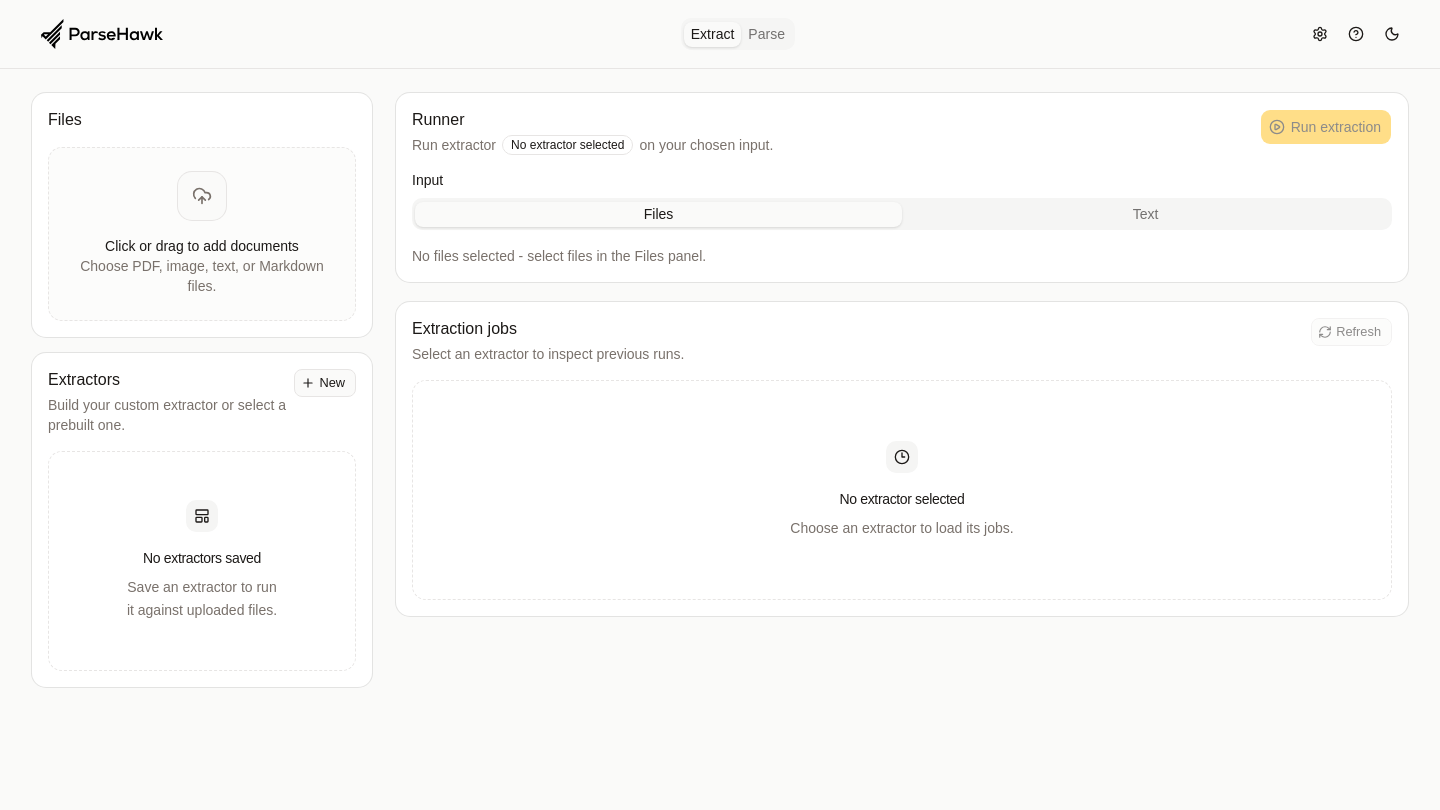
Test: App run workflow › starts fresh extractor drafts empty when no extractors are saved
Check: the text "No extractors saved" is shown, box [143,548,261,568]
Step 1. Click the button "New" → (325, 383), box [294,369,356,397]
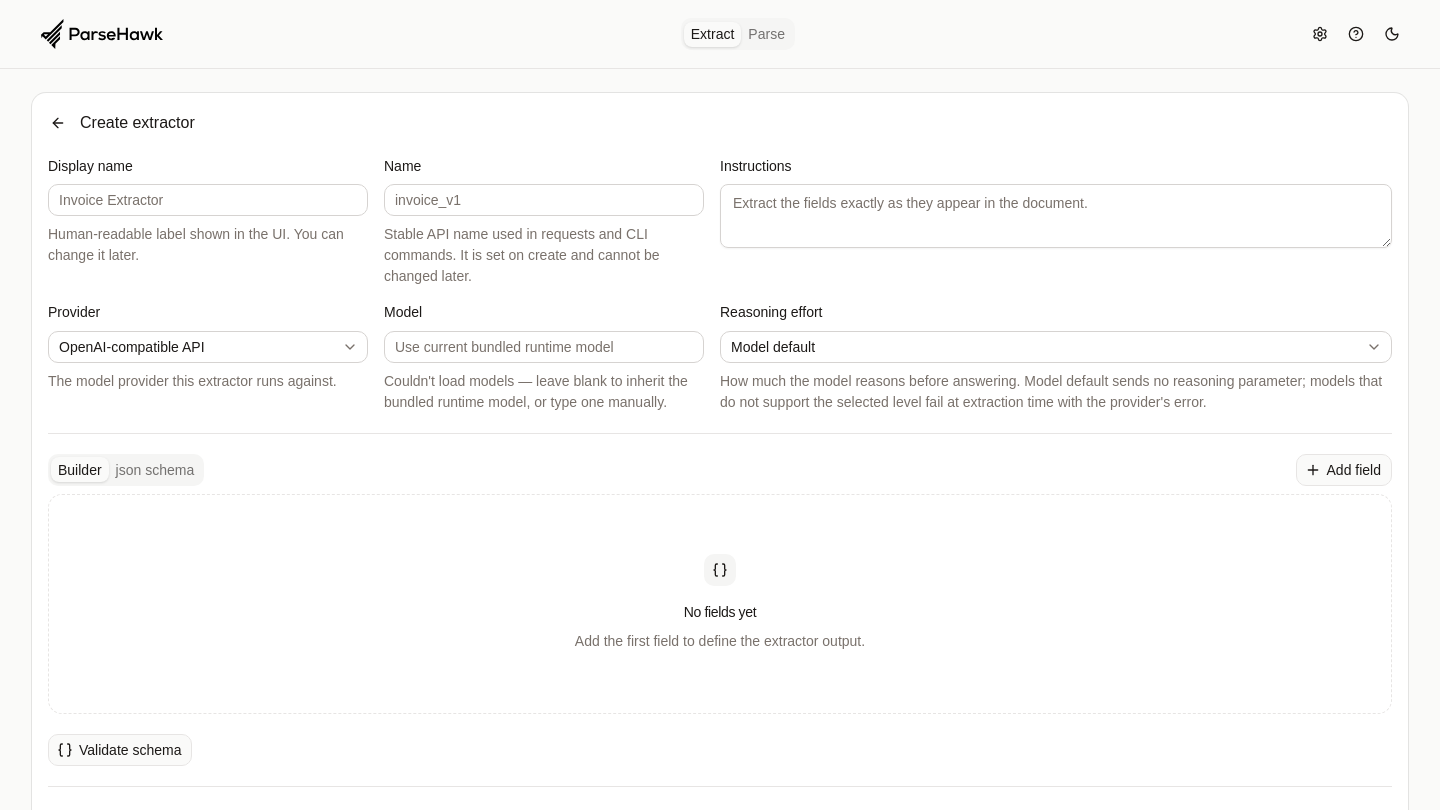
Check: the field labelled "Name" is empty, box [384,184,704,216]
Check: the text box labelled "Instructions" is empty, box [720,184,1392,248]
Check: the text "No fields yet" is shown, box [684,602,756,622]
